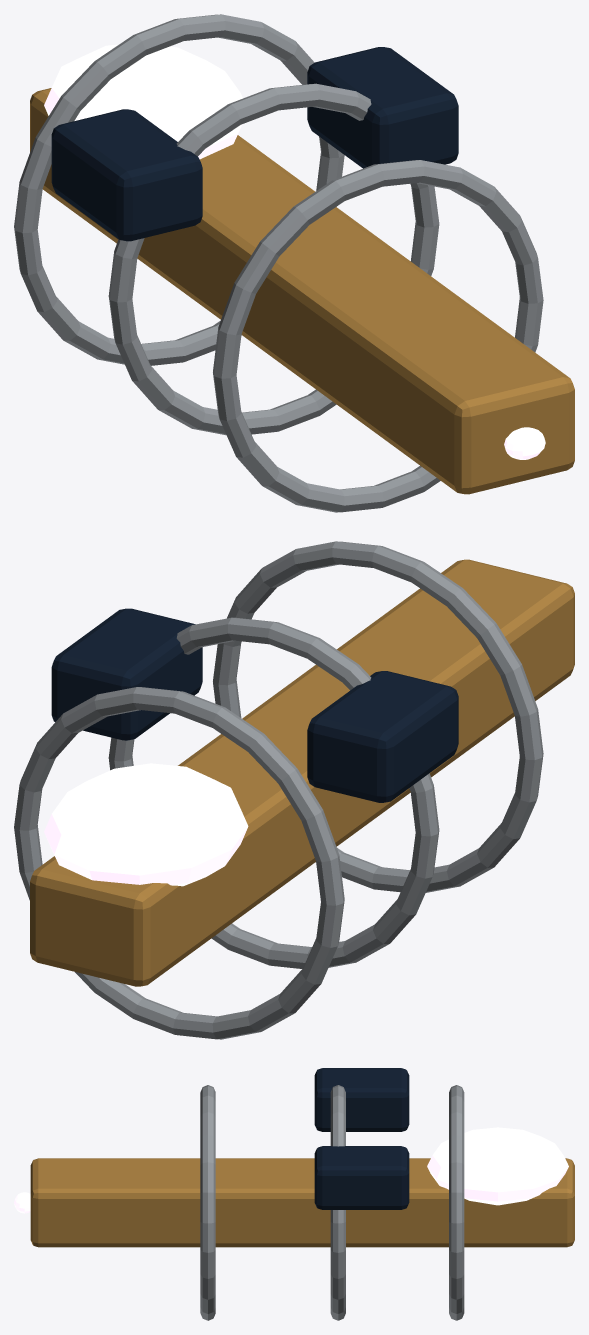
3 renders of one model, top to bottom at view 1: azimuth 30°, elevation 25°; view 2: azimuth 150°, elevation 25°; view 3: azimuth 270°, elevation 25°, orthographic. The views are drawn at different scales.
Visible parts, largest first — view 1: RIMWARD_HULL, RIMWARD_EMISSIVE, RIMWARD_ENGINE_GLOW; view 2: RIMWARD_HULL, RIMWARD_EMISSIVE; view 3: RIMWARD_HULL, RIMWARD_EMISSIVE.
Part boxes in pixels (x1,y1,x2,y2): RIMWARD_HULL: (14,14,574,512); RIMWARD_EMISSIVE: (44,44,242,159); RIMWARD_ENGINE_GLOW: (504,427,545,459); RIMWARD_HULL: (14,541,574,1039); RIMWARD_EMISSIVE: (44,763,248,886); RIMWARD_HULL: (30,1068,574,1320); RIMWARD_EMISSIVE: (427,1127,568,1205).
Bounding box in the file's own units: 7.07 × 6.81 × 16.12.
